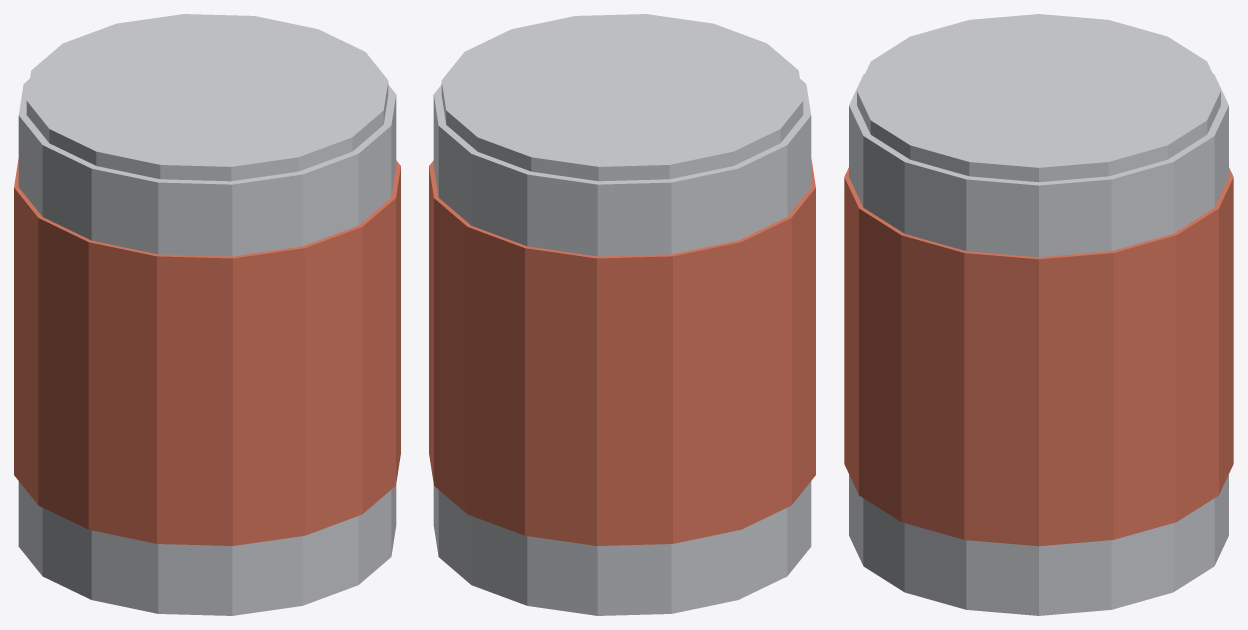
The model's file is food_canned_beans.glb.
3 views of the same model, side by side, from view 1: azimuth 30°, elevation 25°; view 2: azimuth 150°, elevation 25°; view 3: azimuth 270°, elevation 25° (orthographic).
Parts seen in each view (by area): view 1: can_label, can_body, can_lid; view 2: can_label, can_body, can_lid; view 3: can_label, can_body, can_lid.
Part boxes in pixels (<box>): can_label: <box>14,159,400,545</box>; can_body: <box>18,79,396,615</box>; can_lid: <box>26,14,388,181</box>; can_label: <box>429,159,815,545</box>; can_body: <box>433,79,811,615</box>; can_lid: <box>441,14,803,181</box>; can_label: <box>844,167,1233,546</box>; can_body: <box>849,74,1228,615</box>; can_lid: <box>857,14,1220,182</box>.
Size of the model in its own units: 0.246 by 0.31 by 0.246.
